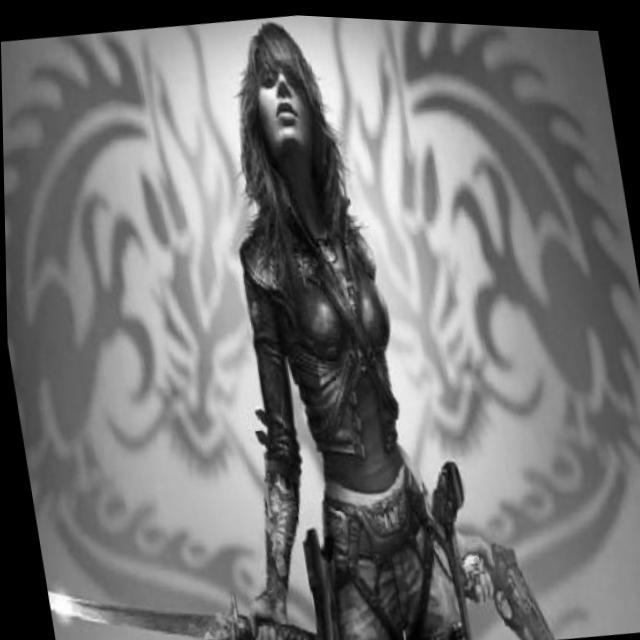weapon: (40, 530, 321, 640), (439, 525, 564, 640), (421, 454, 478, 532)
